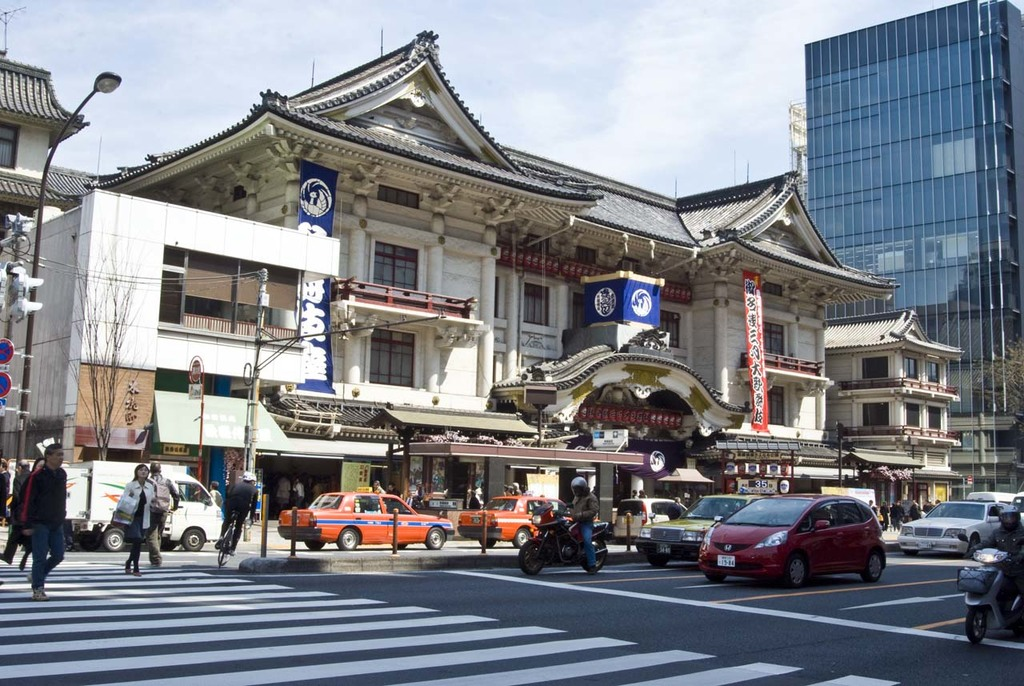mobil: (701, 496, 883, 589), (278, 489, 452, 559), (464, 491, 550, 538)
